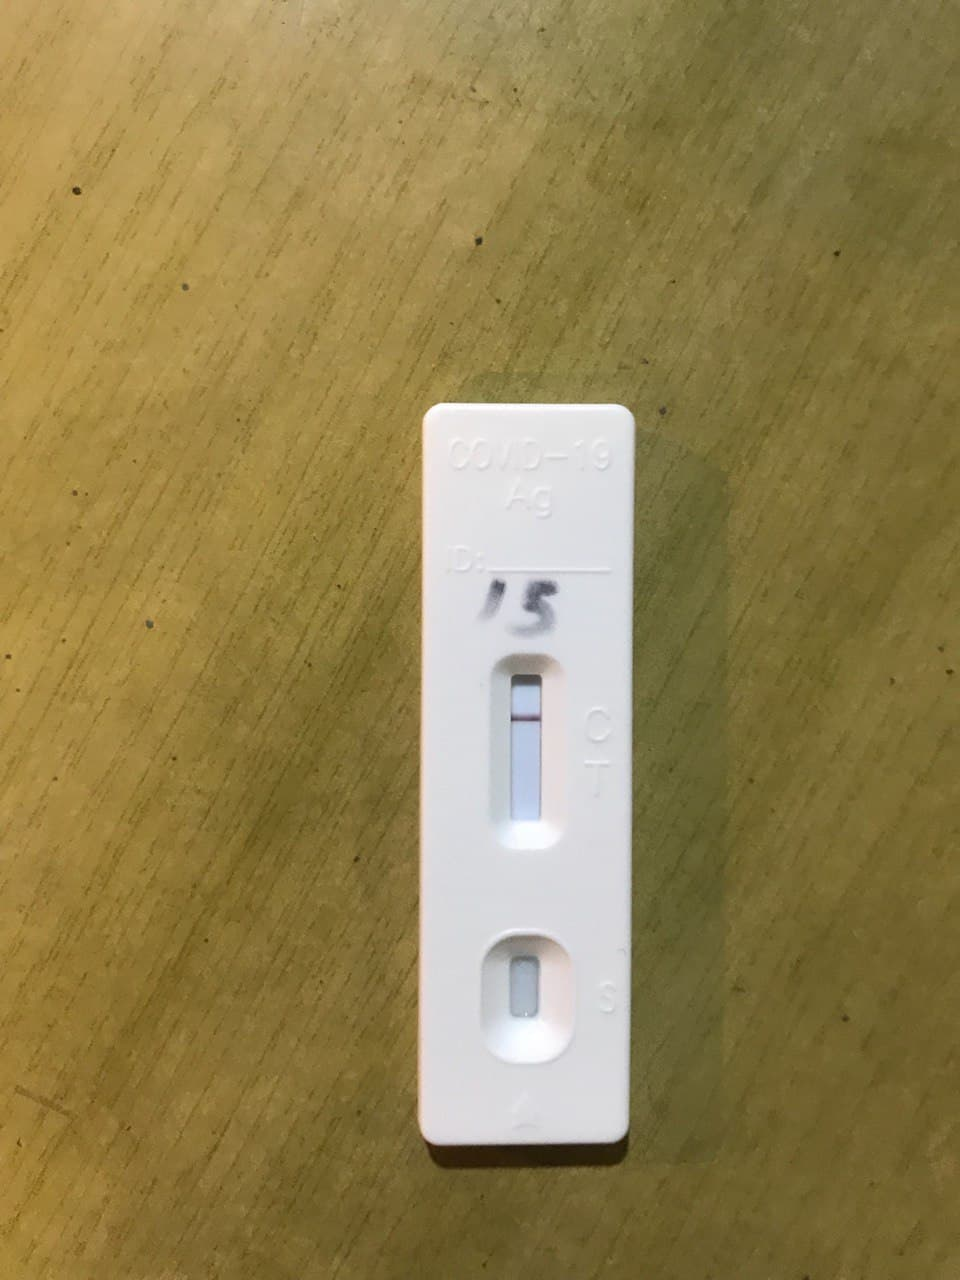rapid_test: (415, 399, 634, 1153)
